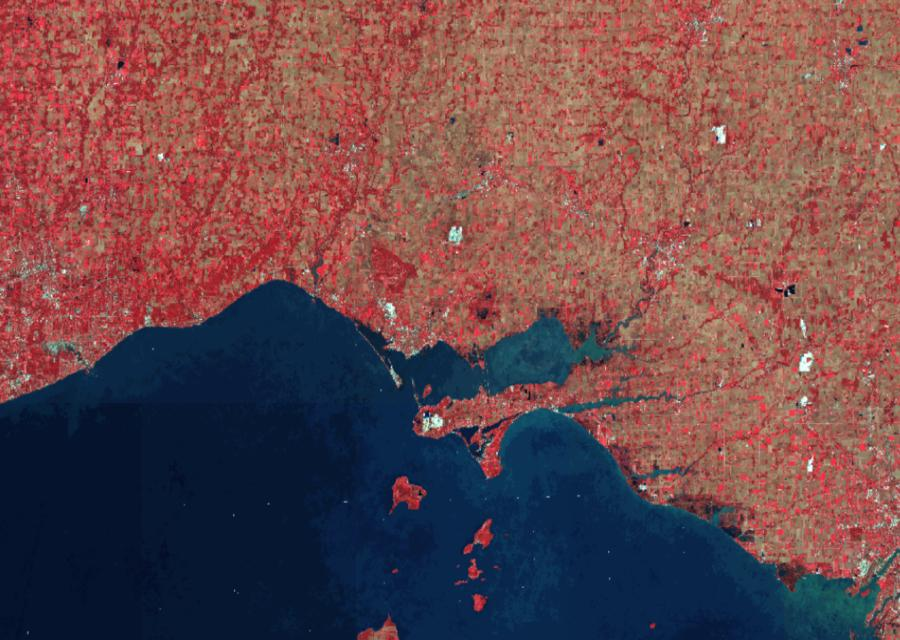Potential Lime Manufacturing Facility: (798, 352, 813, 372)
